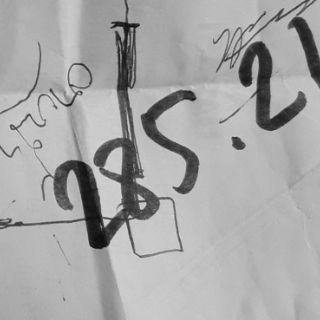.: (225, 132, 248, 152)
2: (234, 36, 309, 134), (49, 158, 118, 250)
5: (142, 87, 206, 192)
8: (93, 133, 164, 221)
